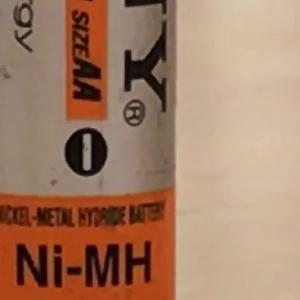NI-MH: (6, 231, 161, 298)
